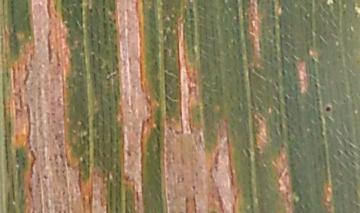tarspot: (321, 103, 334, 113)
